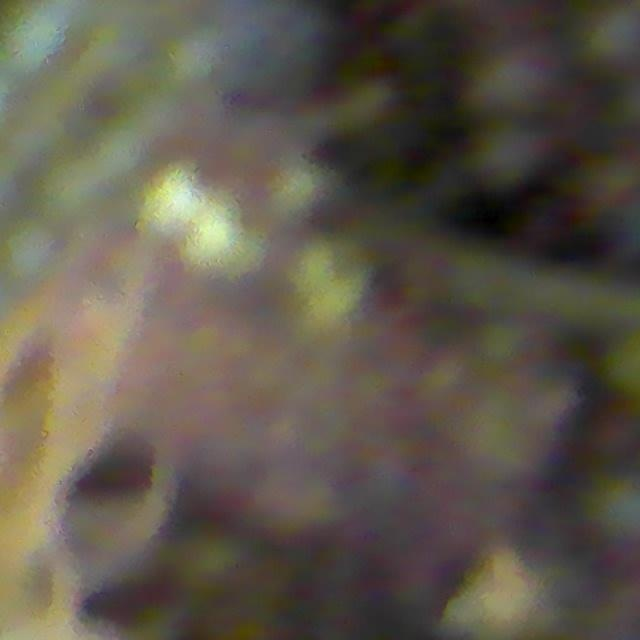SeaGrape: (472, 41, 560, 120), (471, 120, 549, 191), (0, 218, 62, 286), (583, 0, 640, 72)
